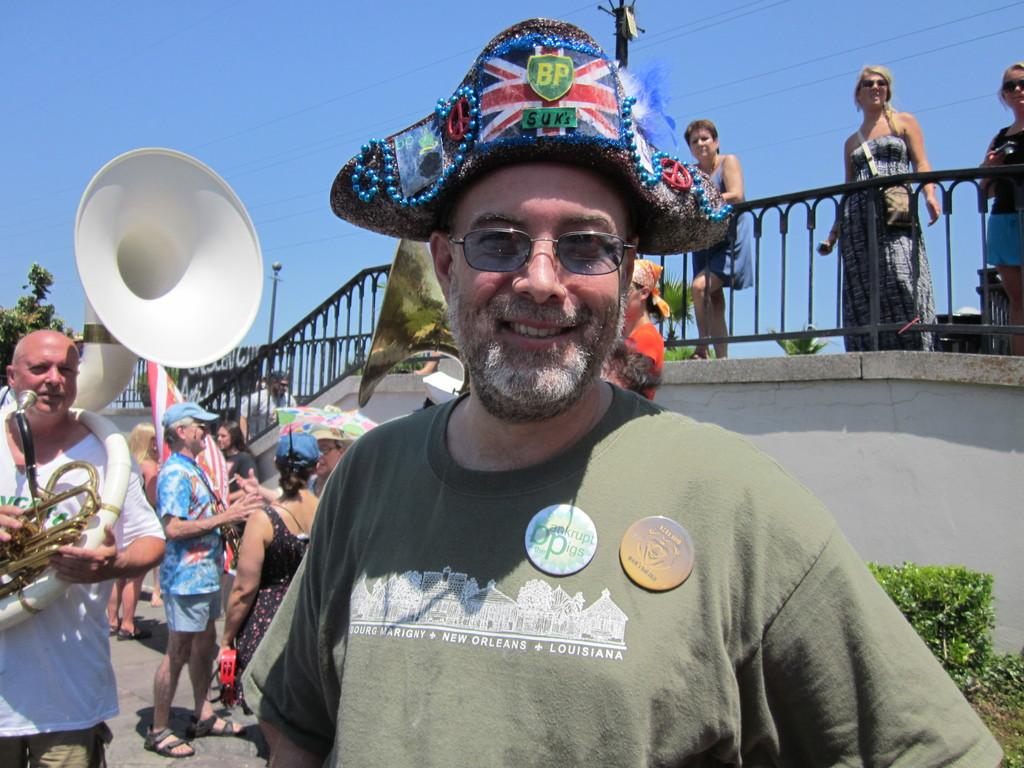Hat: (331, 16, 734, 256), (160, 398, 217, 429), (278, 428, 318, 466)
